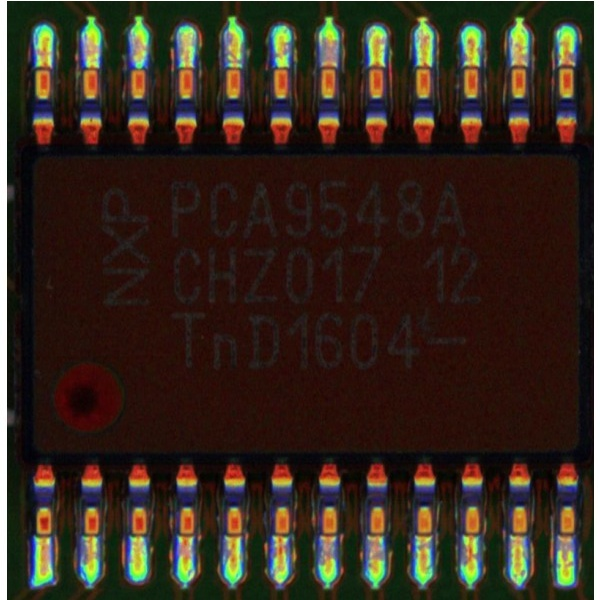Bad_podu: (512, 517, 527, 552), (369, 519, 385, 551), (132, 518, 145, 555), (275, 521, 290, 552), (418, 517, 432, 550), (560, 519, 573, 554), (36, 521, 50, 552), (466, 518, 478, 554), (514, 46, 525, 82), (323, 48, 335, 80), (84, 522, 97, 551), (321, 519, 333, 550), (229, 519, 240, 550), (420, 46, 430, 80), (182, 518, 192, 550), (40, 47, 49, 82), (562, 51, 573, 79), (373, 52, 384, 79), (179, 59, 193, 75)
